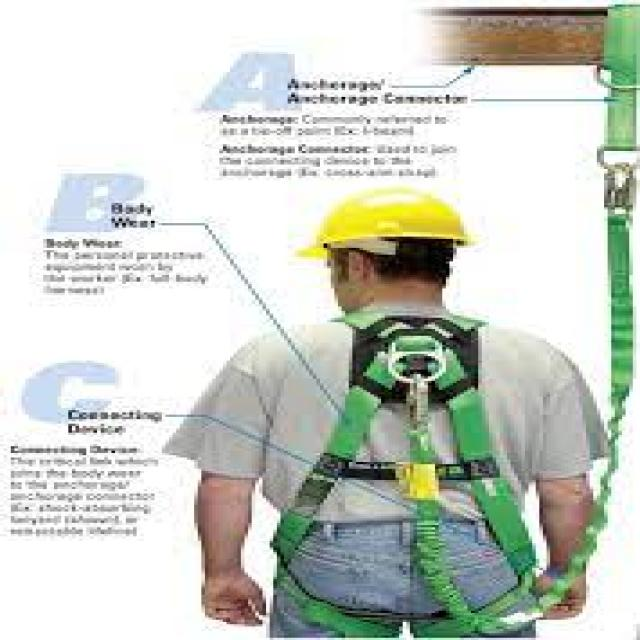harness: (394, 161, 640, 632)
